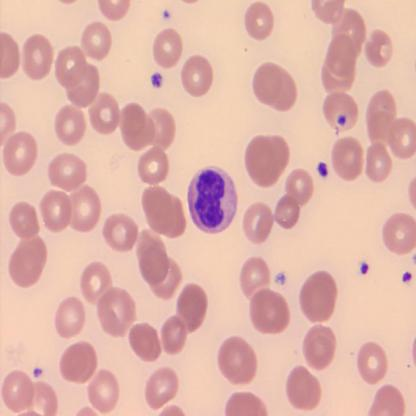Metamyelocyte: (185, 164, 239, 235)
